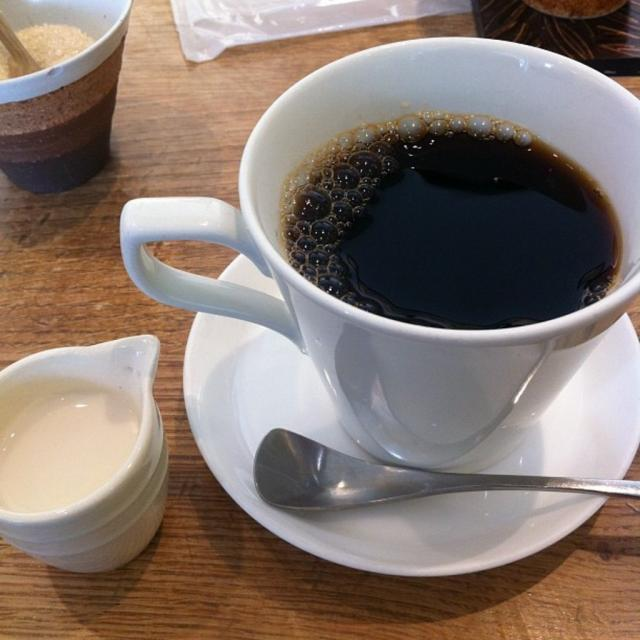Coffee: (117, 28, 639, 477)
Tea: (282, 120, 632, 332)
